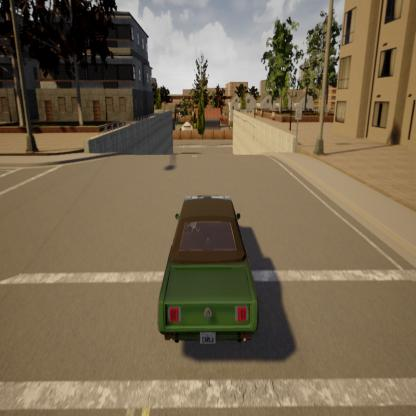Cars: (145, 181, 267, 362)
